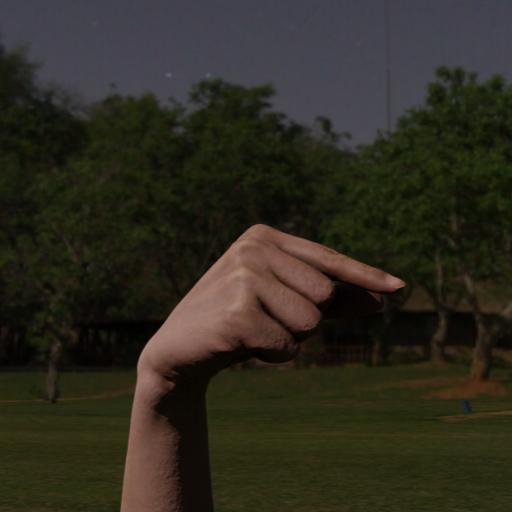G: (121, 209, 416, 411)
